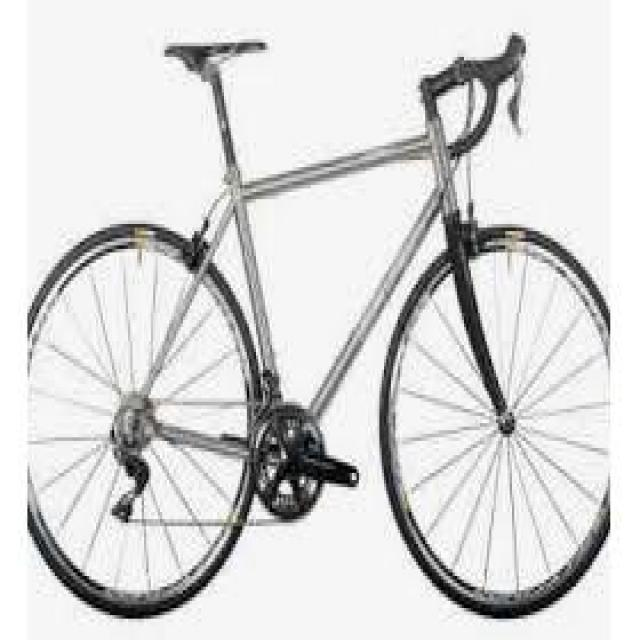bicycle: (22, 19, 619, 609)
